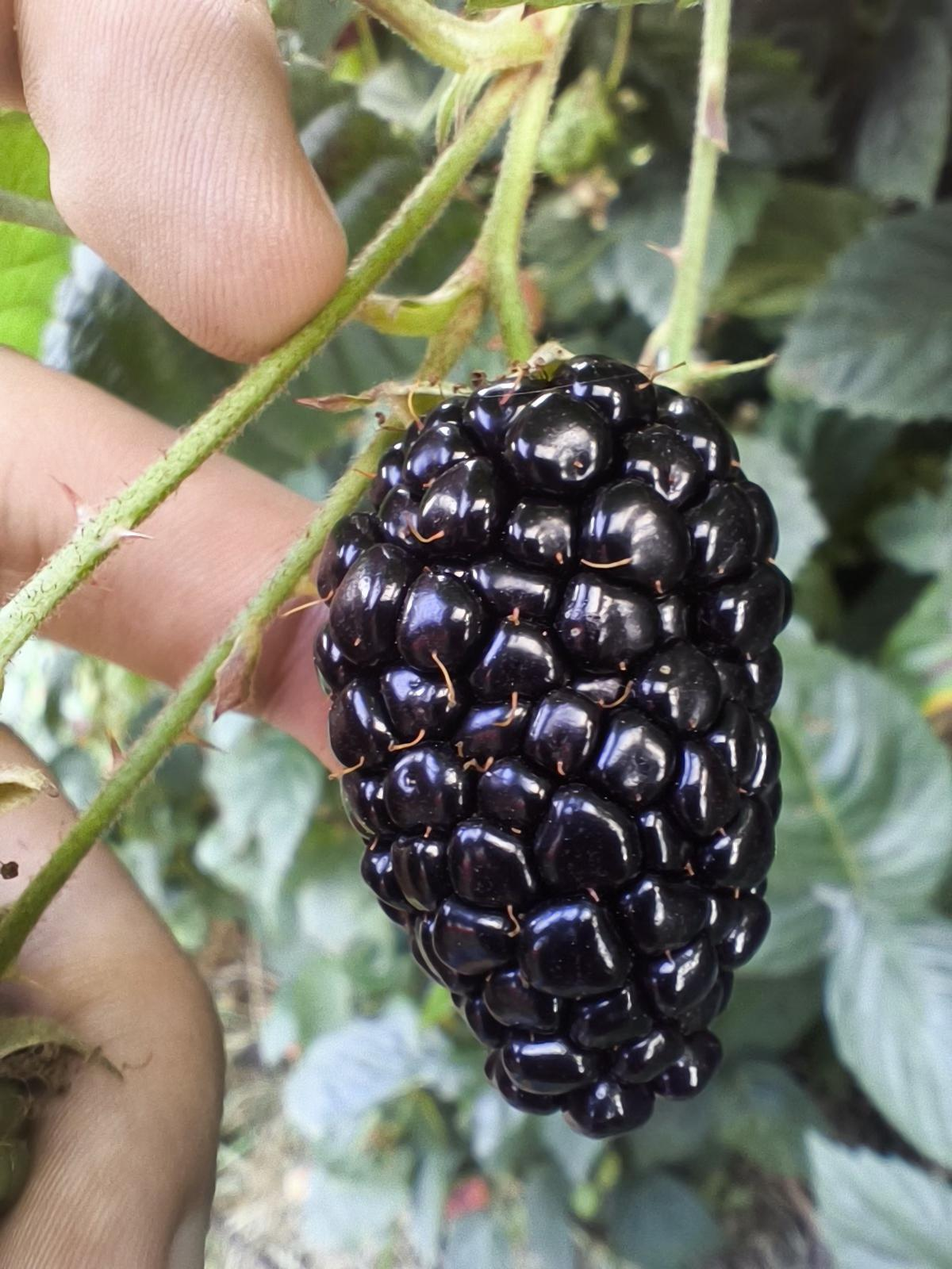maduro: (321, 352, 790, 1137)
